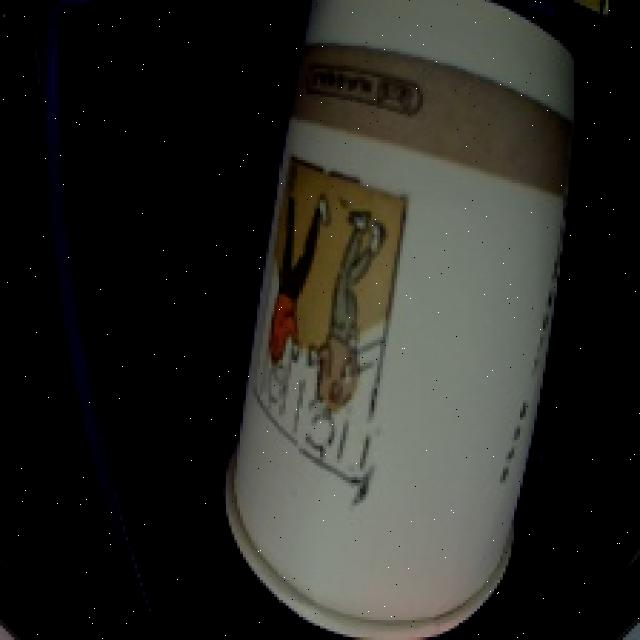cups: (204, 0, 592, 640)
